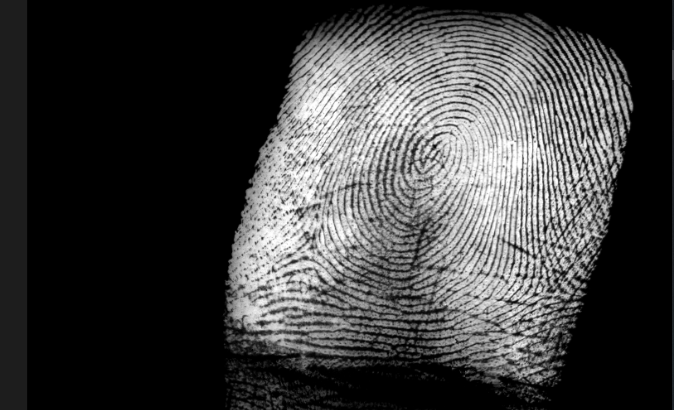nucelo: (410, 133, 447, 172)
verticilo: (290, 236, 327, 271), (526, 278, 554, 301)
